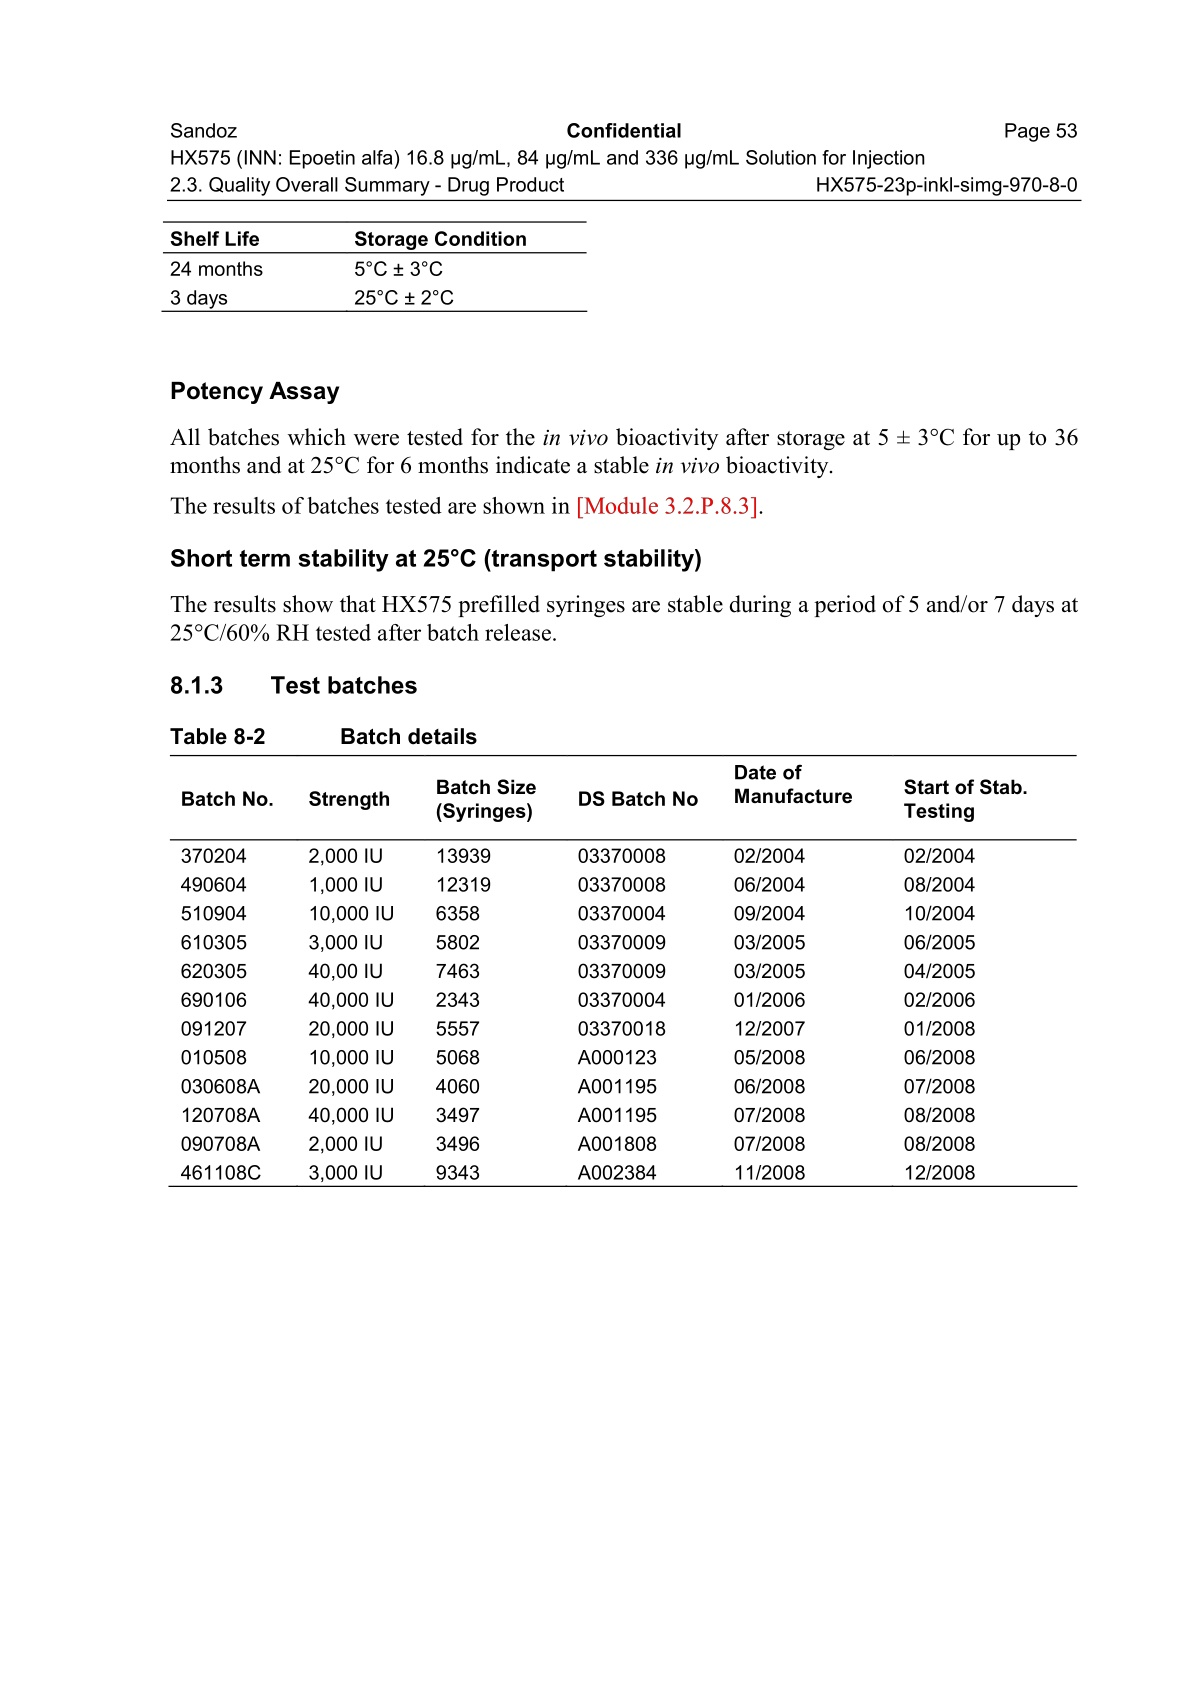partial_lined: (168, 751, 1081, 1191), (161, 220, 588, 313)
